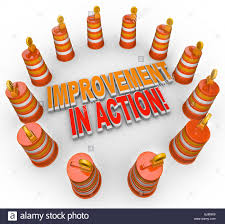barrel: (13, 122, 59, 170), (168, 117, 211, 164), (177, 74, 219, 121), (4, 79, 43, 124), (127, 151, 161, 199), (66, 151, 99, 199), (21, 35, 51, 87), (169, 43, 204, 82), (50, 23, 76, 62), (148, 20, 173, 58), (87, 8, 104, 49), (118, 13, 137, 45)
